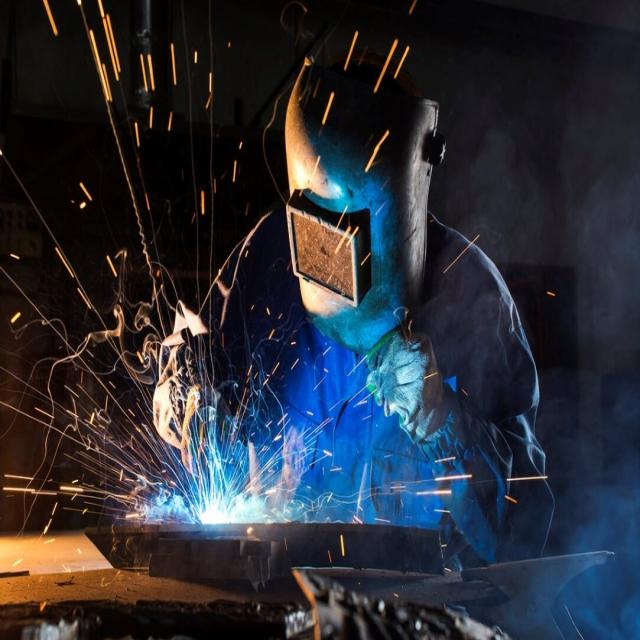welding: (198, 498, 232, 523)
